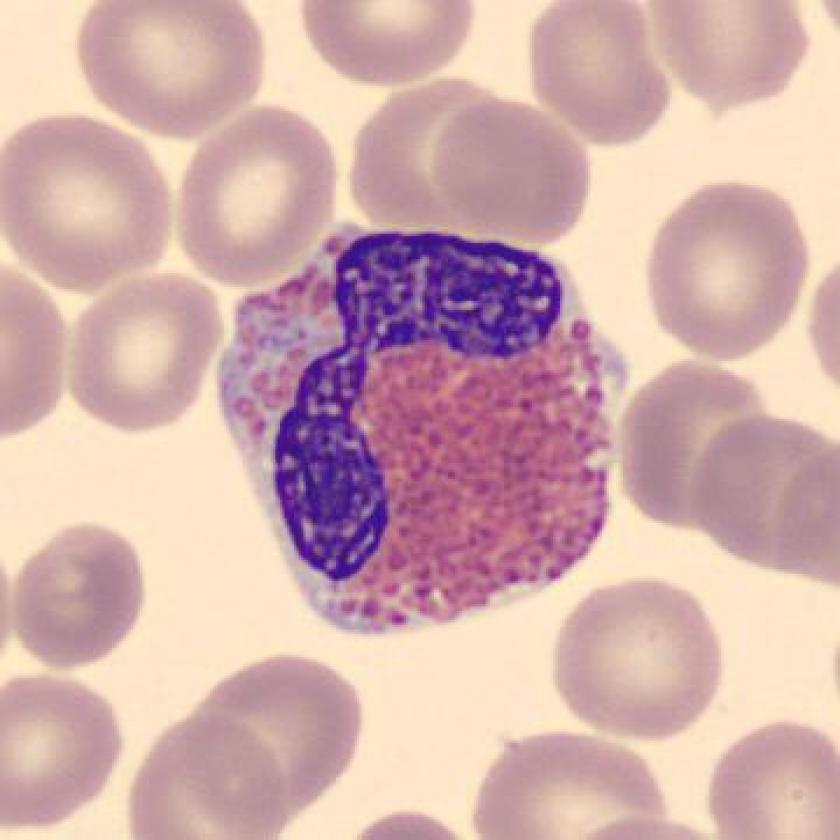eosinophil: (206, 207, 645, 644)
